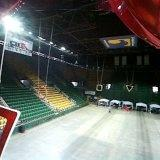Orange_Circle_GShape: (36, 85, 47, 100)
Orange_Triangle_Gshape: (0, 105, 19, 160)
Yellow_Square_GShape: (96, 85, 102, 91)
Yellow_Triangle_Gshape: (126, 85, 134, 91)
